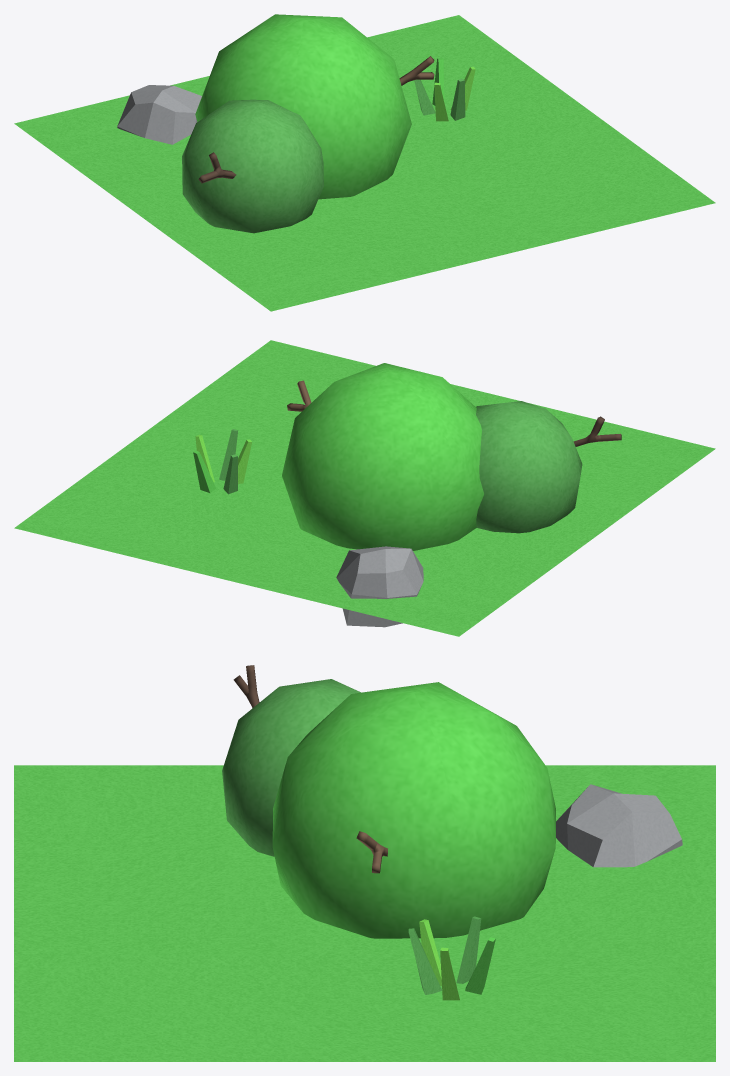
Rendered from park_5.fbx.
3 views of the same model, one above another, from view 1: azimuth 30°, elevation 25°; view 2: azimuth 150°, elevation 25°; view 3: azimuth 270°, elevation 25° (orthographic). The views are drawn at different scales.
Parts seen in each view (by area): view 1: park_green.013, small_bush.002, stone.019, grass.033; view 2: park_green.013, small_bush.002, stone.019, grass.033; view 3: park_green.013, small_bush.002, stone.019, grass.033.
Part boxes in pixels (bbox=[...]): park_green.013: bbox=[14, 15, 715, 311]; small_bush.002: bbox=[182, 14, 434, 233]; stone.019: bbox=[117, 85, 201, 144]; grass.033: bbox=[414, 58, 475, 121]; park_green.013: bbox=[14, 340, 715, 636]; small_bush.002: bbox=[282, 363, 621, 550]; stone.019: bbox=[336, 546, 423, 627]; grass.033: bbox=[193, 429, 251, 494]; park_green.013: bbox=[14, 765, 715, 1061]; small_bush.002: bbox=[222, 665, 555, 938]; stone.019: bbox=[556, 784, 682, 867]; grass.033: bbox=[408, 916, 495, 1000].
Bounding box in the file's own units: 2 × 0.8479 × 2.
